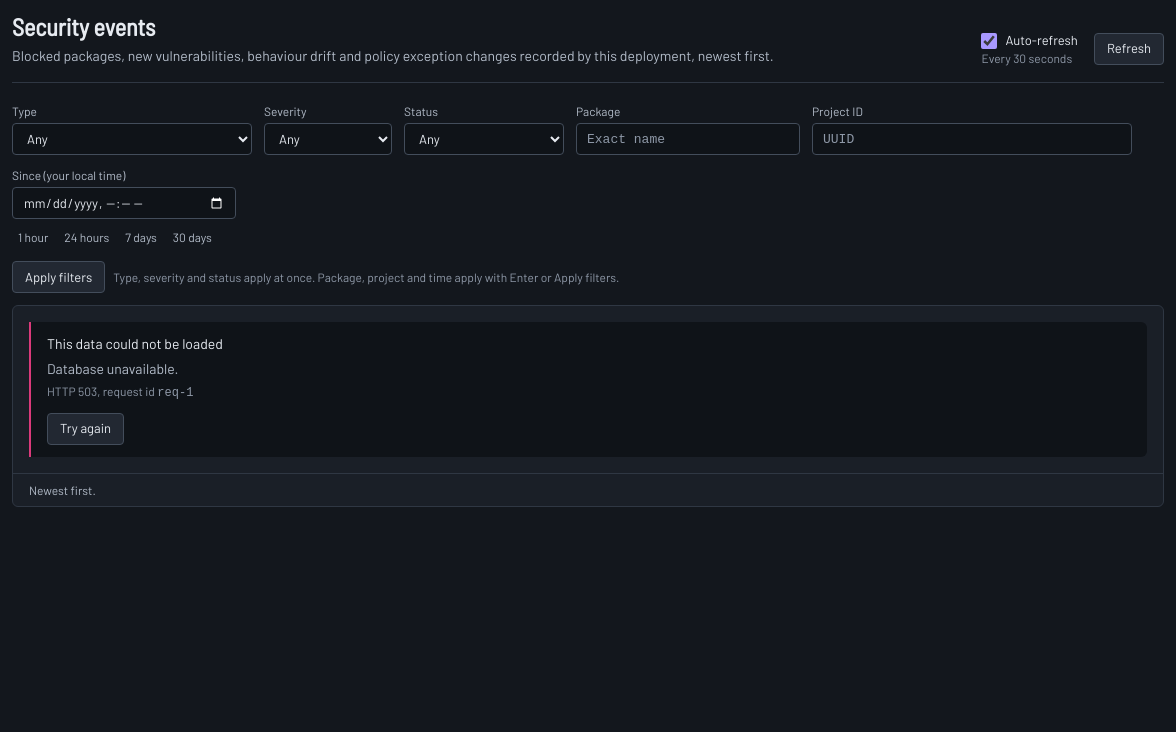
Test: Events › shows the server's error with a retry, and an empty state
The width and height of the screenshot is (1176, 732).
Expected: the message shows "Database unavailable.", [47,360,178,377]
Click the button "Try again" at (86, 429), box [47,413,124,445]
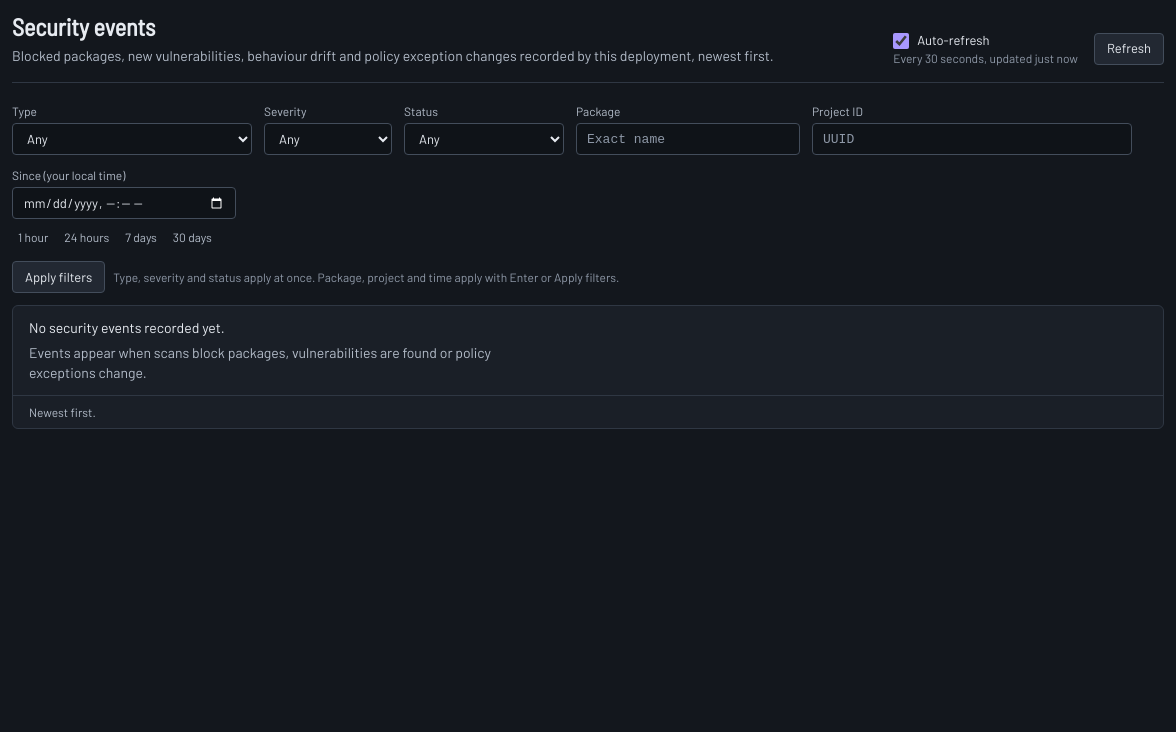
Expected: the text "No security events recorded yet." is shown, [29,318,225,339]
